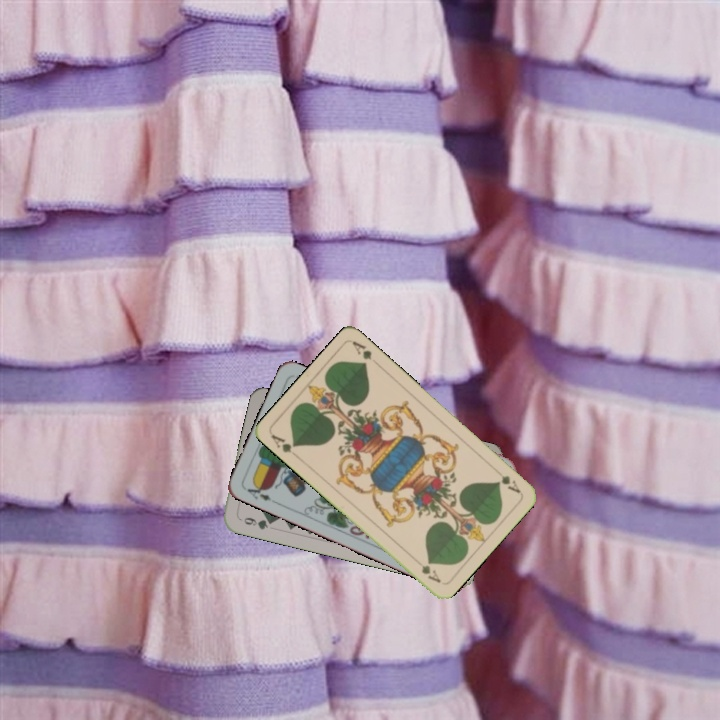EA: (241, 479, 280, 506)
G9: (235, 513, 276, 532)
GA: (267, 430, 301, 461), (494, 471, 523, 496)
